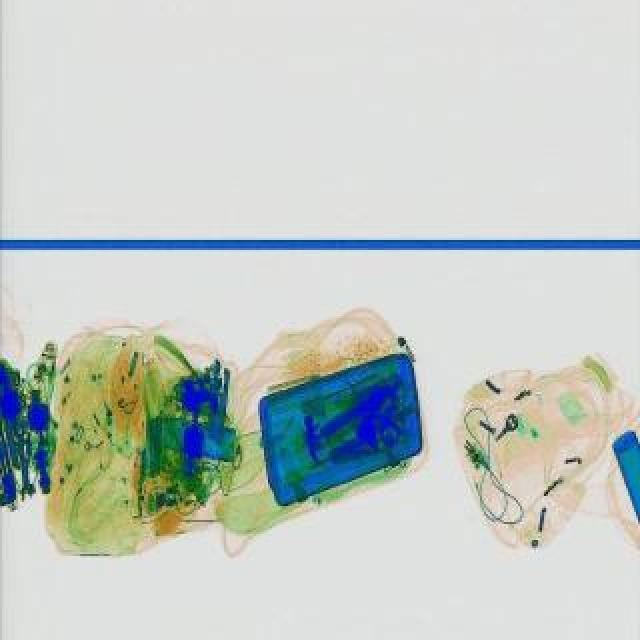scissors: (12, 428, 36, 500)
